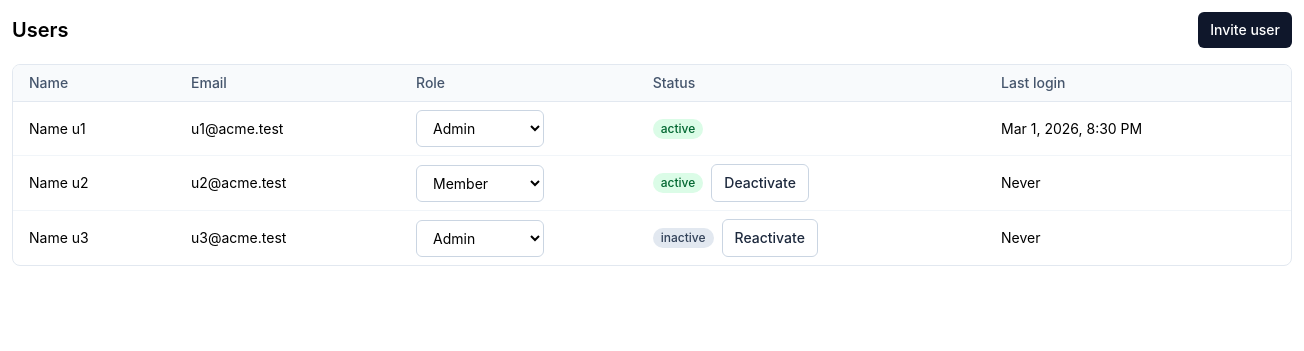
Test: UsersPage › shows the API message when a change is rejected, and clears it after a later success
expect the text "Name u2" is shown: met, box left=13, top=156, right=175, bottom=210
Select "Member" in the dropdown named "Role for Name u1" at (480,128), box left=416, top=110, right=544, bottom=147
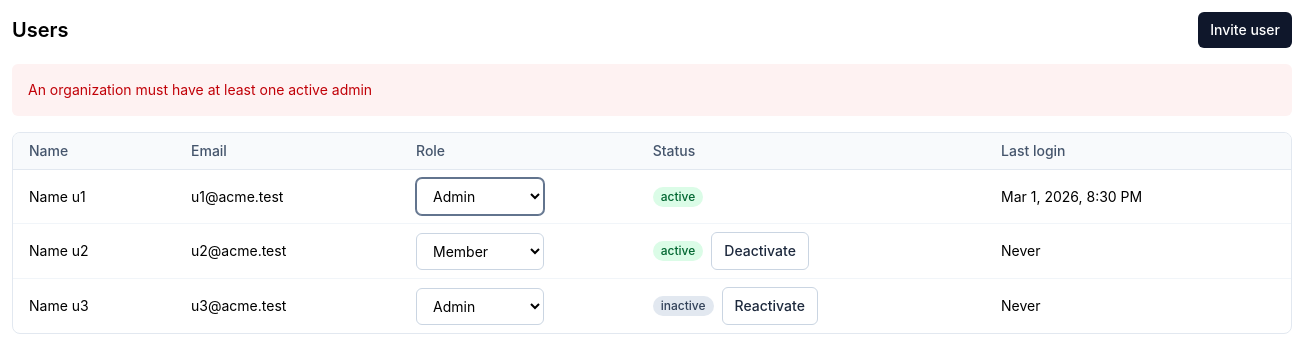
expect the text "An organization must have at least one active admin" is shown: met, box left=28, top=81, right=372, bottom=98
Click the button "Deactivate" at (760,251), box left=711, top=232, right=809, bottom=270
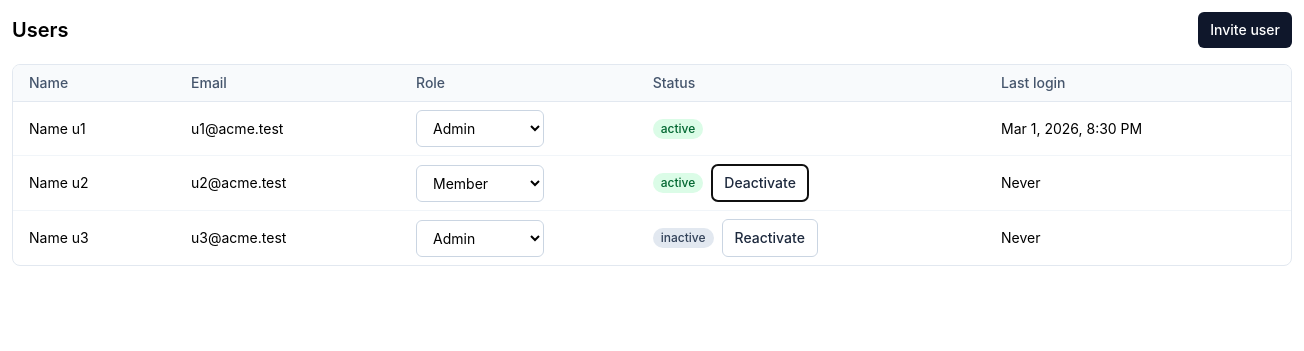
expect the text "An organization must have at least one active admin" is gone: met
